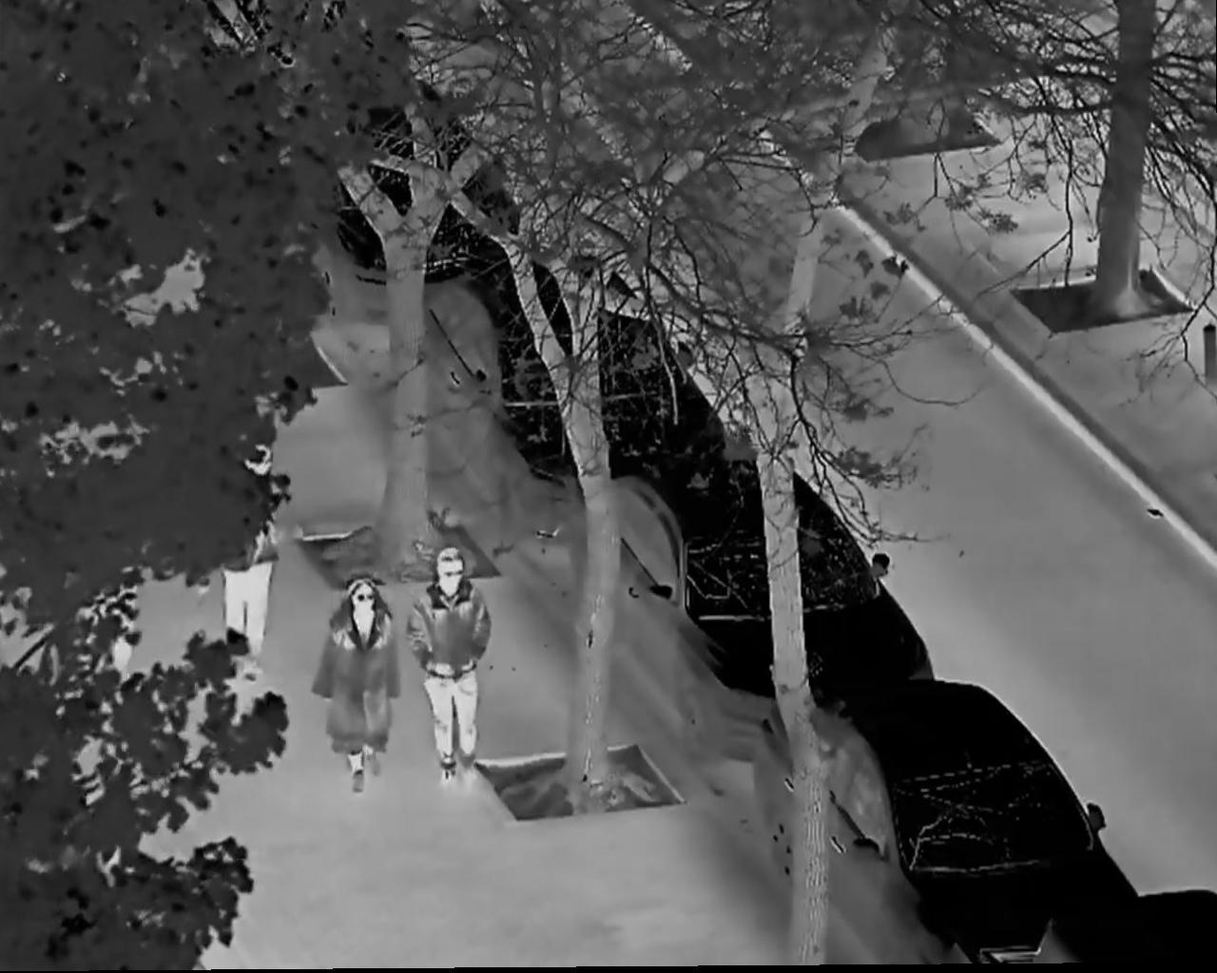person: (411, 545, 497, 786), (315, 575, 397, 795), (216, 444, 287, 683)
